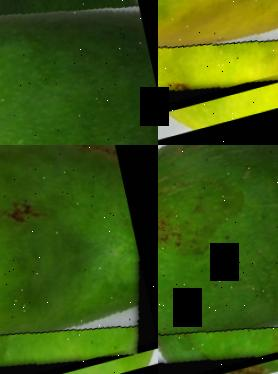PartiallyRipe: (158, 0, 278, 120)
Unripe: (0, 145, 158, 374), (158, 145, 278, 374), (0, 0, 158, 145)
